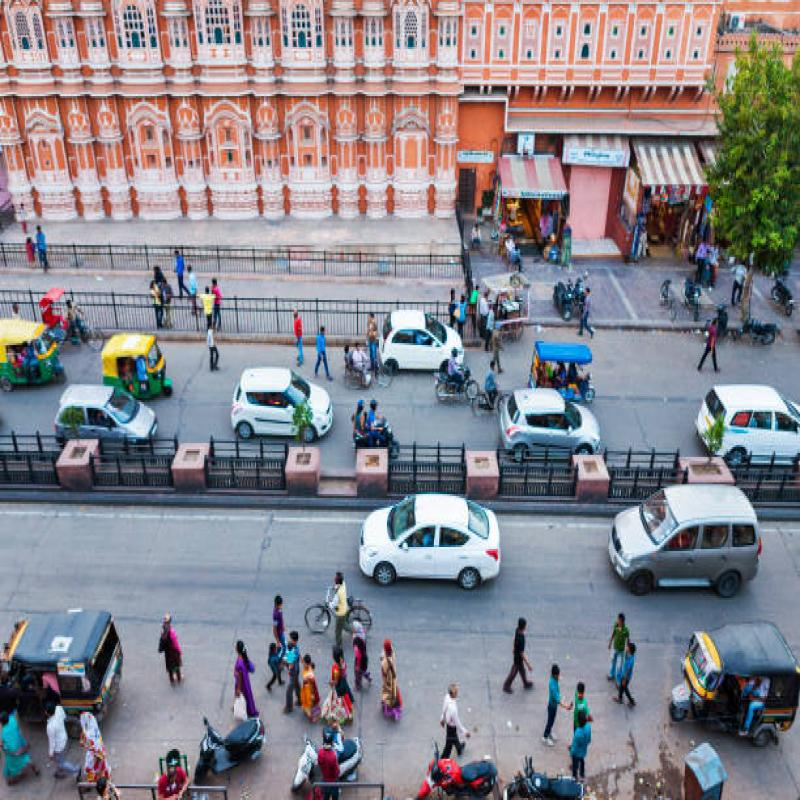auto: (676, 600, 800, 760), (6, 585, 125, 714), (105, 318, 177, 394), (3, 314, 64, 385)
bike: (196, 708, 269, 789), (294, 716, 364, 794), (418, 745, 508, 800), (512, 755, 578, 800), (353, 392, 404, 450)
car: (609, 481, 773, 610), (357, 490, 510, 592), (500, 371, 606, 460), (220, 367, 339, 446), (699, 373, 800, 460), (56, 383, 155, 452), (376, 312, 466, 377)
